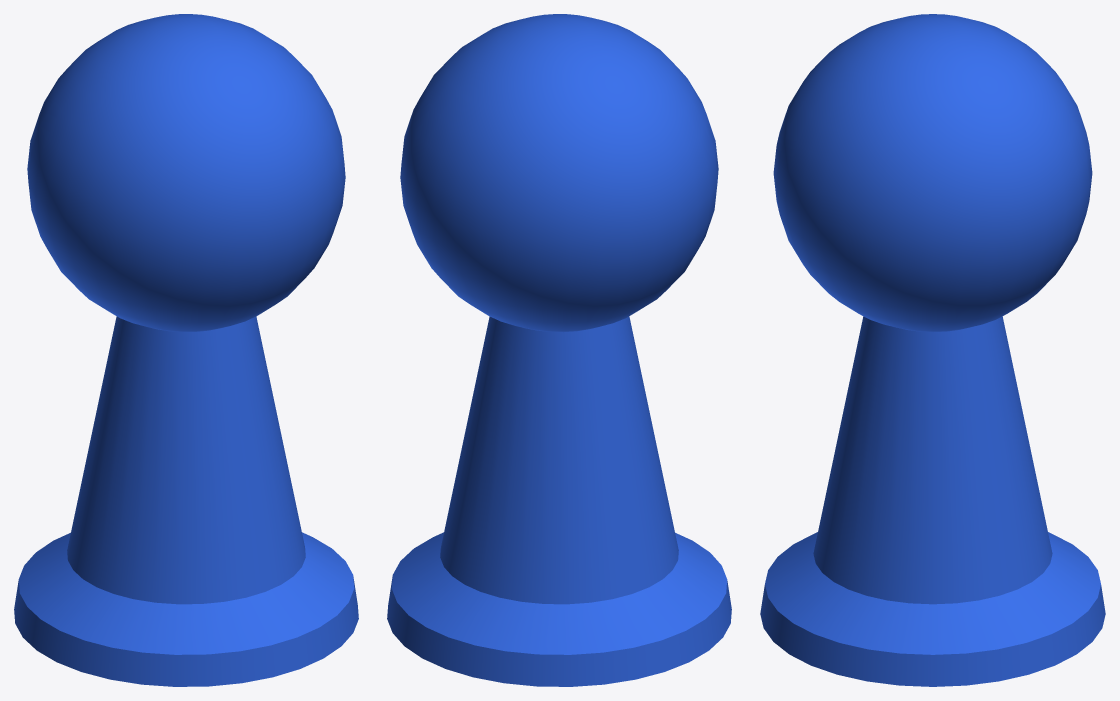
The model's file is WahahaPawn.fbx.
3 views of the same model, side by side, from view 1: azimuth 30°, elevation 25°; view 2: azimuth 150°, elevation 25°; view 3: azimuth 270°, elevation 25° (orthographic).
Visible parts, largest first — view 1: WahahaPawn; view 2: WahahaPawn; view 3: WahahaPawn.
Part boxes in pixels (x1,y1,x2,y2): WahahaPawn: (14, 14, 358, 686); WahahaPawn: (387, 14, 731, 686); WahahaPawn: (760, 14, 1105, 686).
Size of the model in its own units: 130 by 243 by 130.
